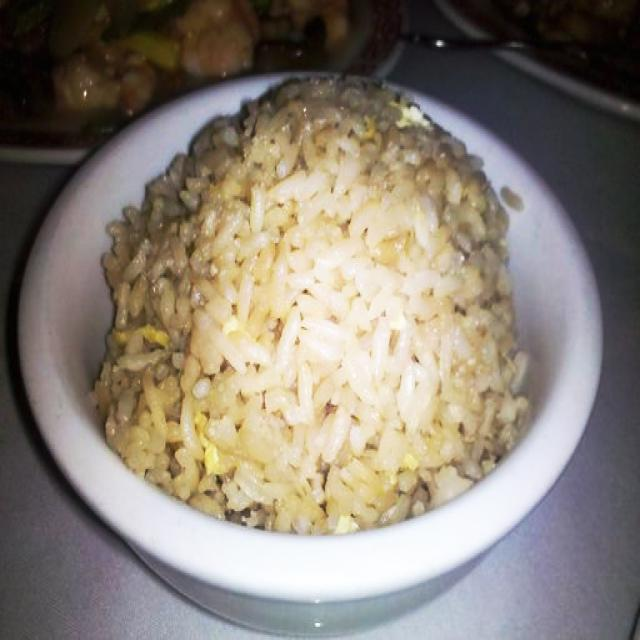rice: (89, 69, 530, 538)
